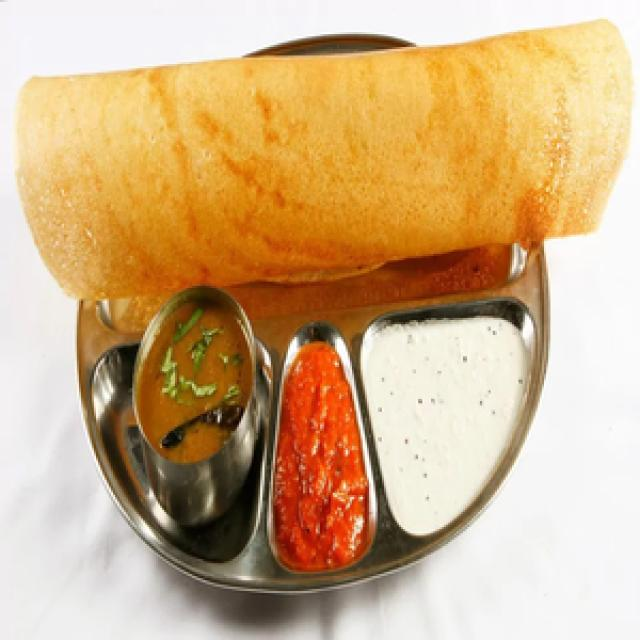dosa: (6, 8, 640, 315)
